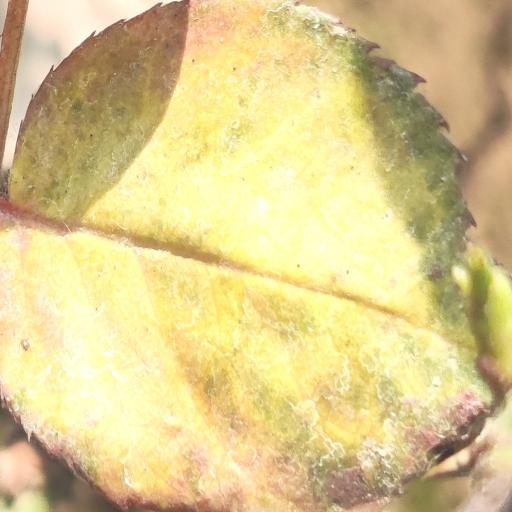red_mite: (0, 0, 491, 511)
